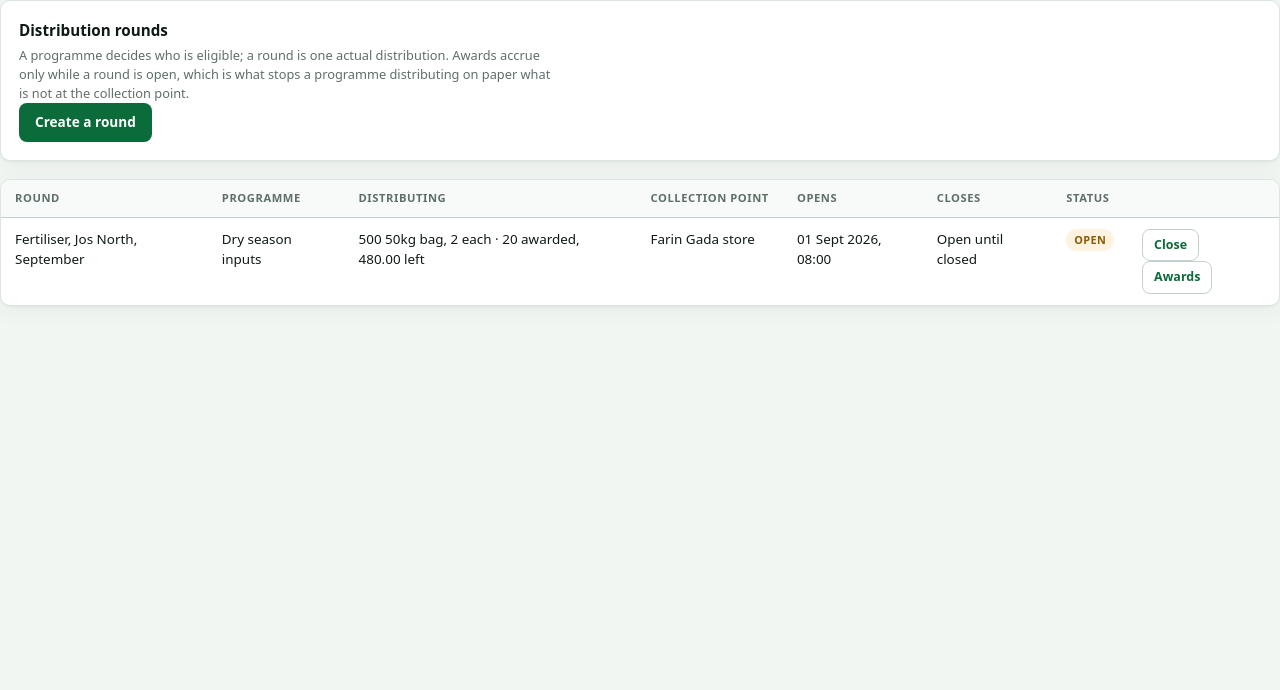
Test case: the programme list › does not claim no programme exists when it could not be read
The width and height of the screenshot is (1280, 690).
Click the button "Create a round": (85, 123) [19,103,152,142]
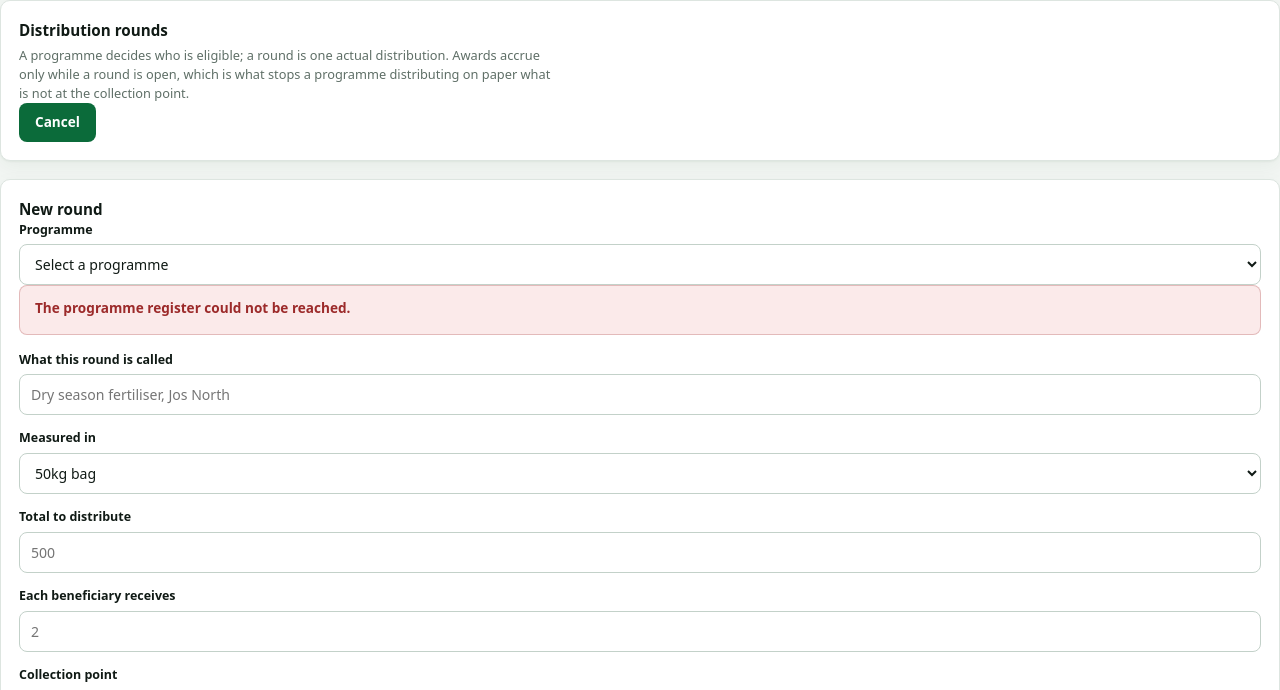
Result: the text "The programme register could not be reached." is shown at [35,298,350,317]
